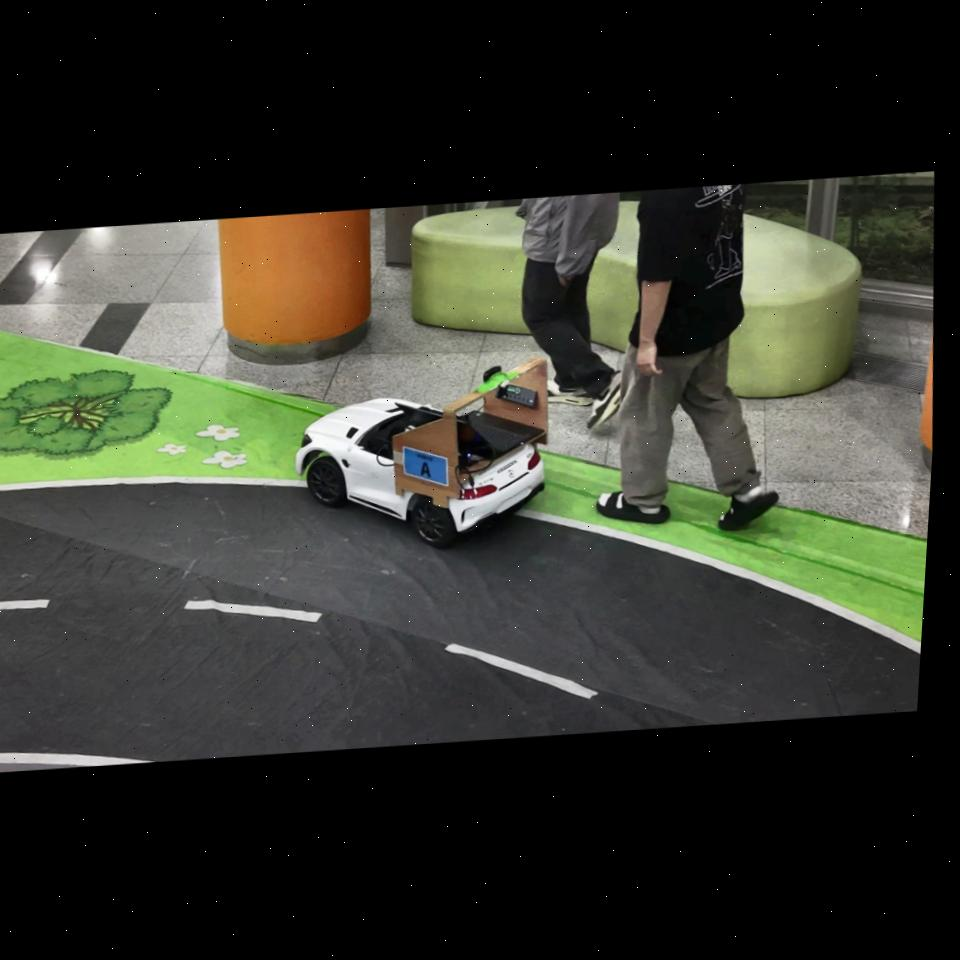broken_line: (445, 644, 597, 699), (184, 599, 322, 622), (0, 599, 49, 610)
